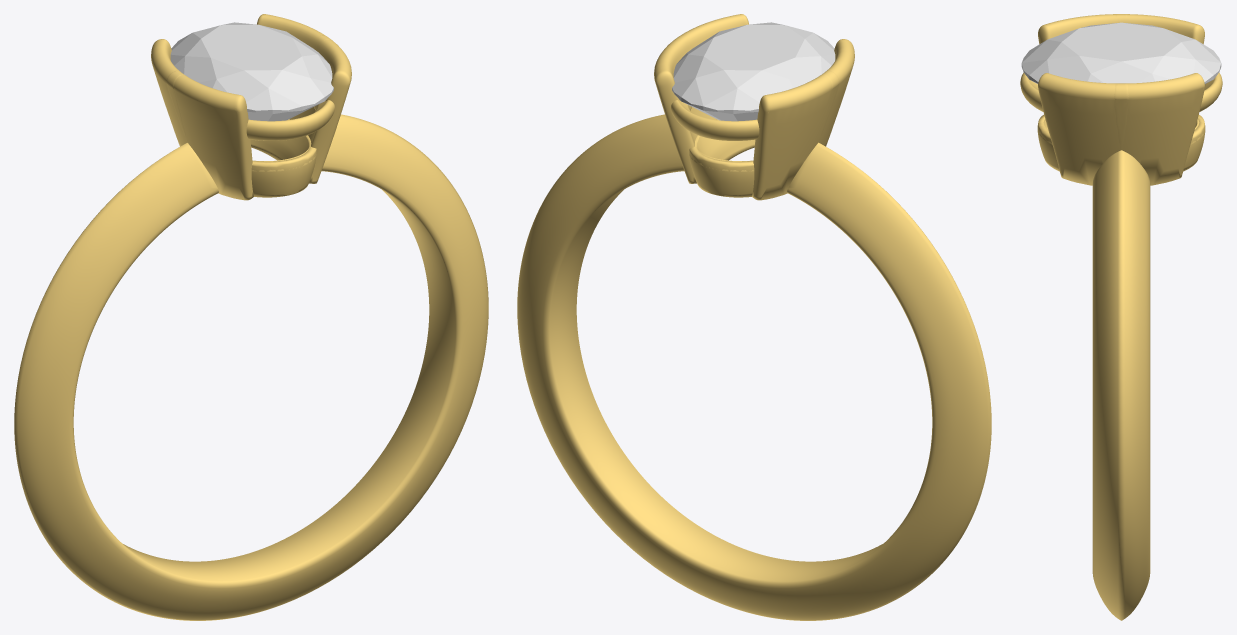
File: diamond-oval-yellowgold-halfmoonbezel-knifeedge-nosidestones.glb
The picture shows the model from 3 angles, left to right: view 1: azimuth 30°, elevation 25°; view 2: azimuth 150°, elevation 25°; view 3: azimuth 270°, elevation 25°; orthographic projection. The views are drawn at different scales.
Parts seen in each view (by area): view 1: metal, stone; view 2: metal, stone; view 3: metal, stone.
Part boxes in pixels (left/top/right/bottom): metal: left=14, top=14, right=488, bottom=620; stone: left=170, top=22, right=333, bottom=121; metal: left=517, top=14, right=991, bottom=620; stone: left=672, top=22, right=835, bottom=121; metal: left=1020, top=14, right=1222, bottom=620; stone: left=1021, top=22, right=1221, bottom=83.
Bounding box in the file's own units: 20.5 × 23.4 × 7.75.
